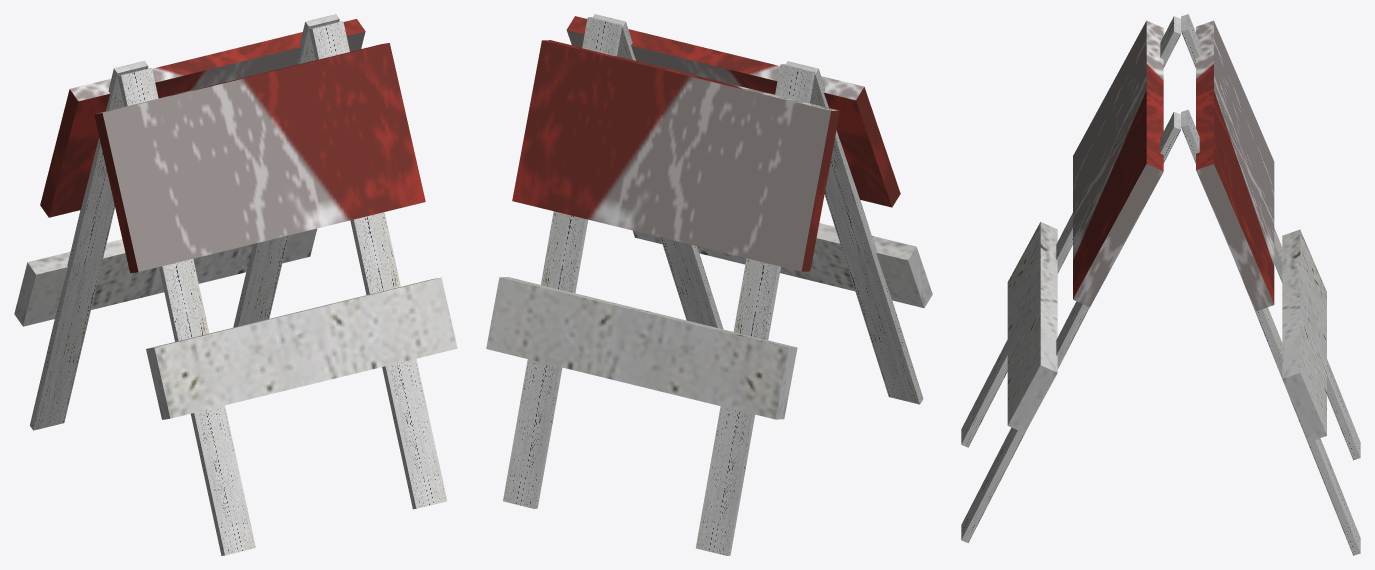
Rendered from Barriere.fbx.
3 views of the same model, side by side, from view 1: azimuth 30°, elevation 25°; view 2: azimuth 150°, elevation 25°; view 3: azimuth 270°, elevation 25° (orthographic). The views are drawn at different scales.
Visible parts, largest first — view 1: Barricade; view 2: Barricade; view 3: Barricade.
Part boxes in pixels (left/top/right/bottom): Barricade: left=14, top=14, right=457, bottom=555; Barricade: left=486, top=14, right=932, bottom=555; Barricade: left=961, top=14, right=1360, bottom=555.
Size of the model in its own units: 114 by 160 by 134.
Materials: 2 (2 with a texture image).
